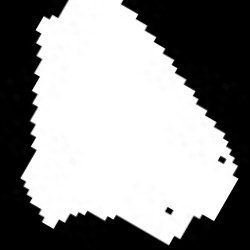spot: (22, 1, 239, 245)
